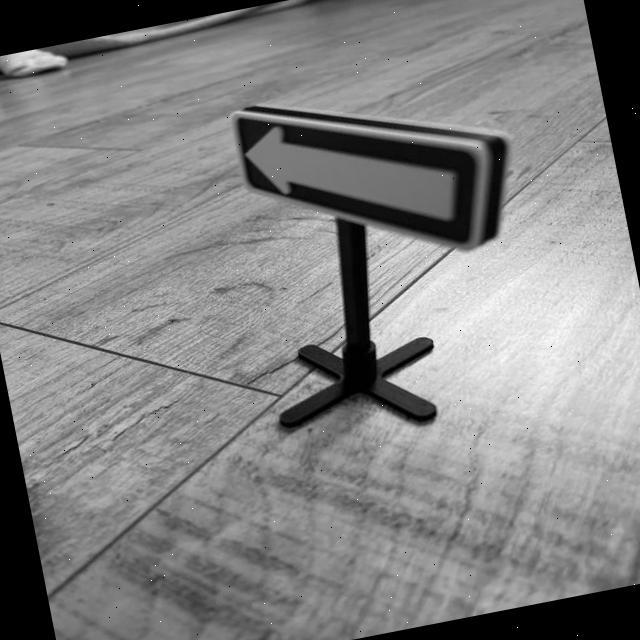sign_oneway_left: (228, 54, 532, 293)
